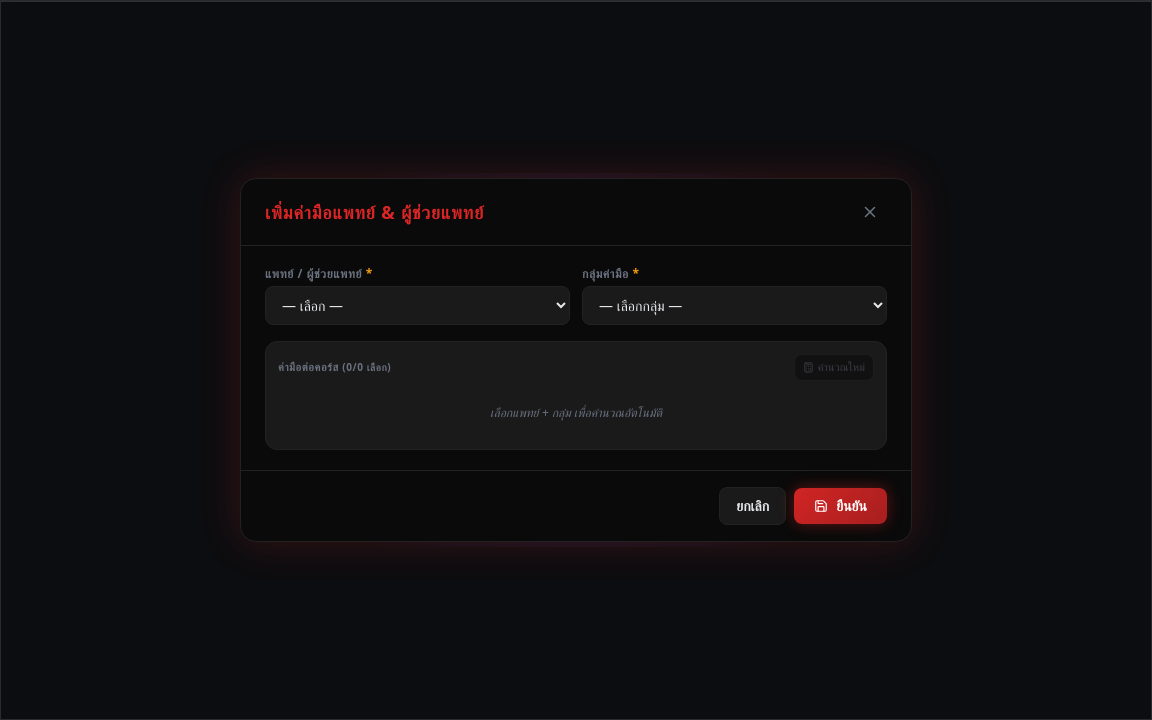
Test: DfEntryModal — ADD mode › DFM7: save blocks with error when no row is enabled
Select "หมอ A · แพทย์" in the dropdown below "แพทย์ / ผู้ช่วยแพทย์" at (418, 306), box [265,286,570,325]
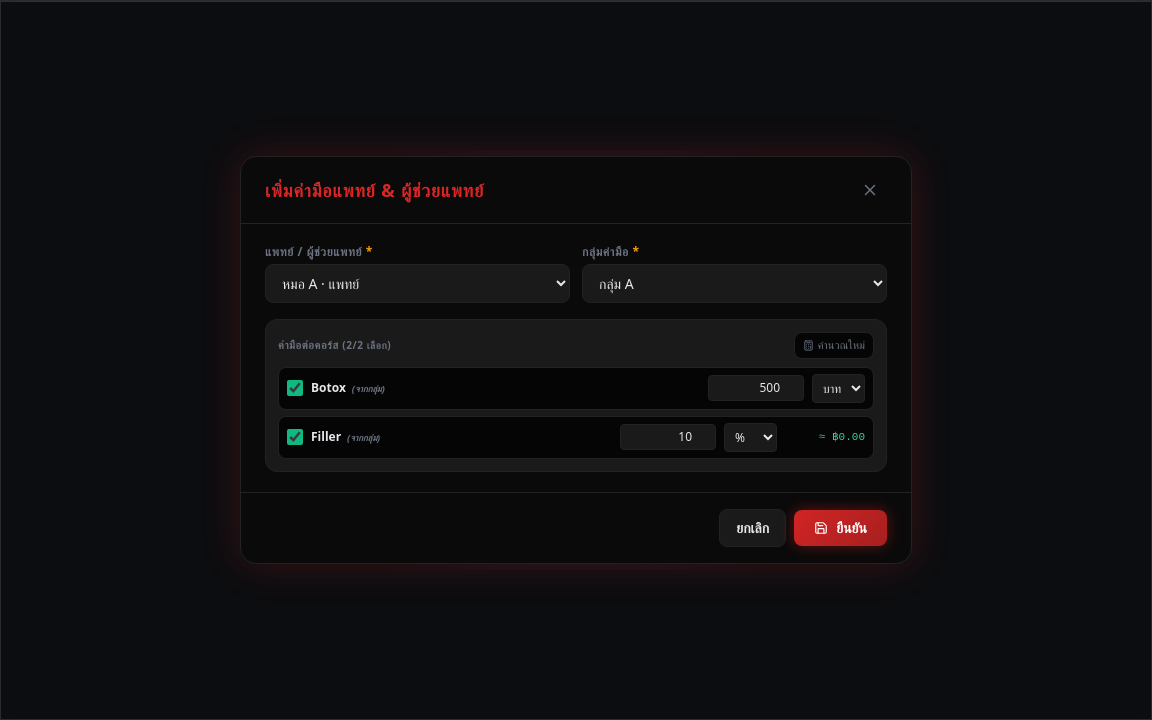
Result: the dropdown below "กลุ่มค่ามือ" shows "กลุ่ม A" at [582,264,887,303]
Click the checkbox named "เปิด/ปิด Botox".
click(295, 388)  # box [287,380,303,396]
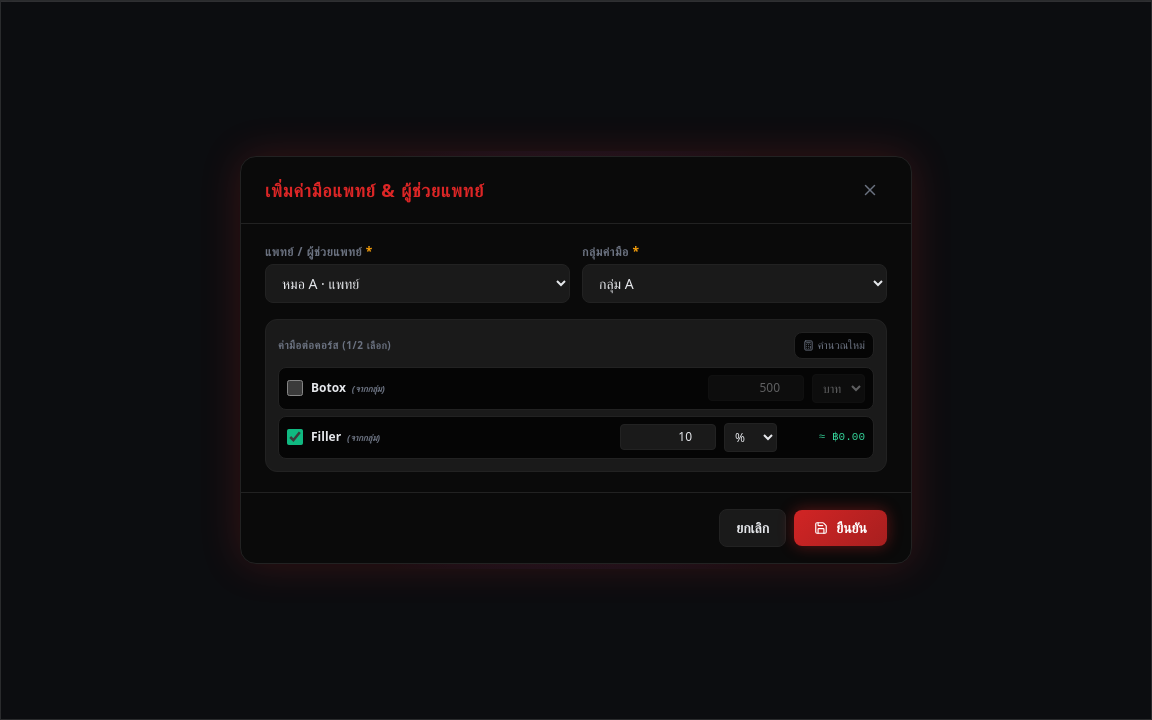
Click the checkbox named "เปิด/ปิด Filler".
click(295, 437)  # box [287,429,303,445]
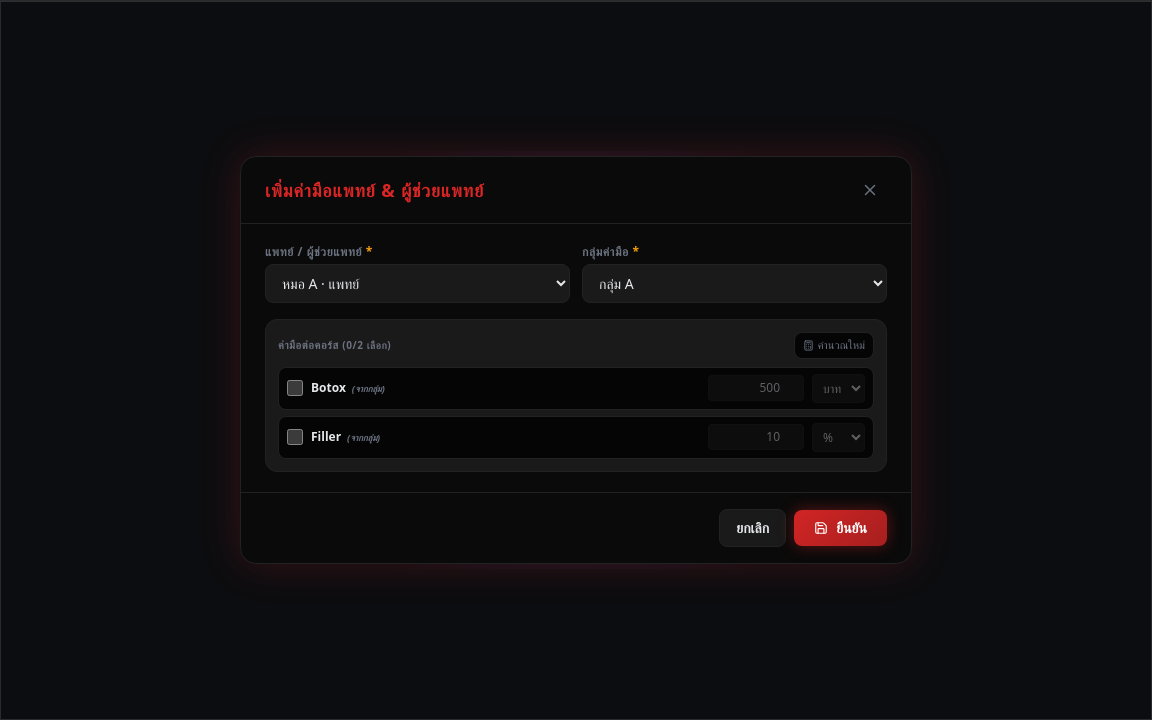
Click the button "ยืนยัน".
click(841, 528)  # box [794,510,887,546]
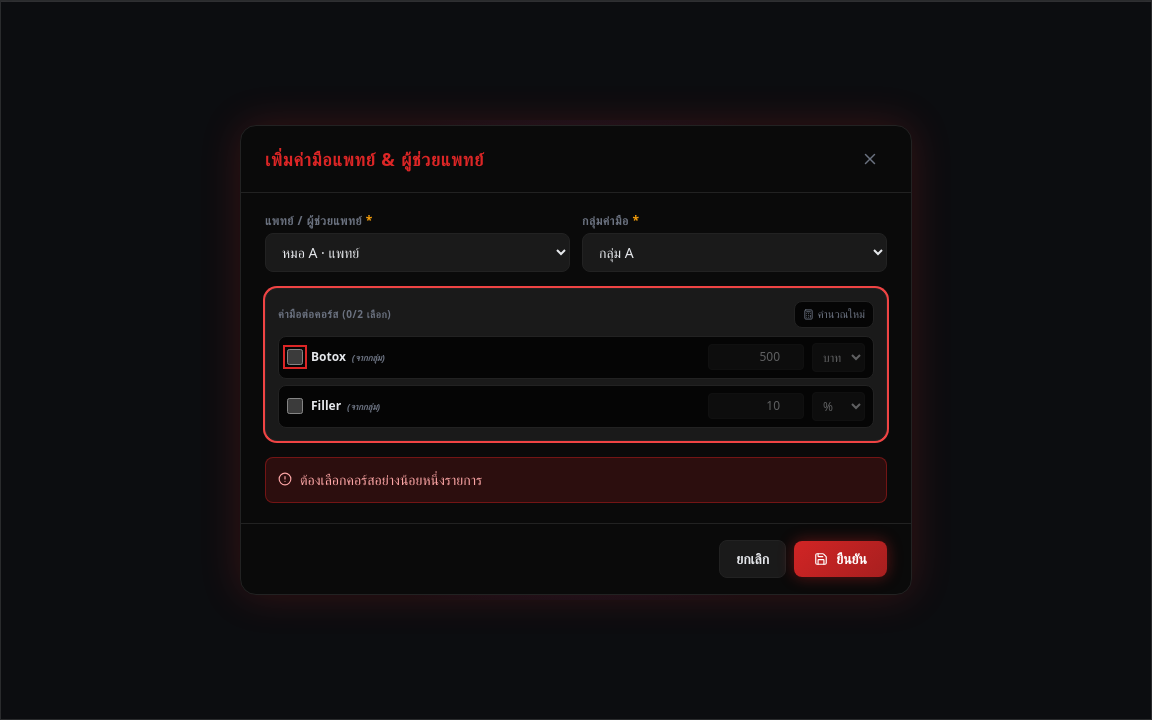
Result: the text "ต้องเลือกคอร์สอย่างน้อยหนึ่งรายการ" is shown at [300,470,482,490]
